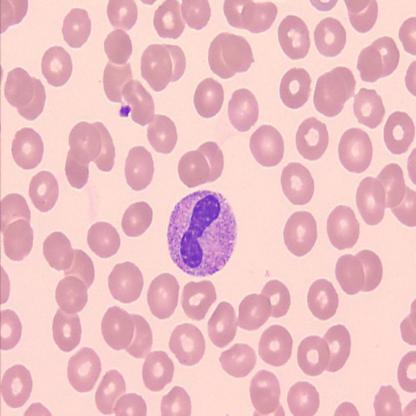Band Neutrophil: (164, 187, 240, 280)
